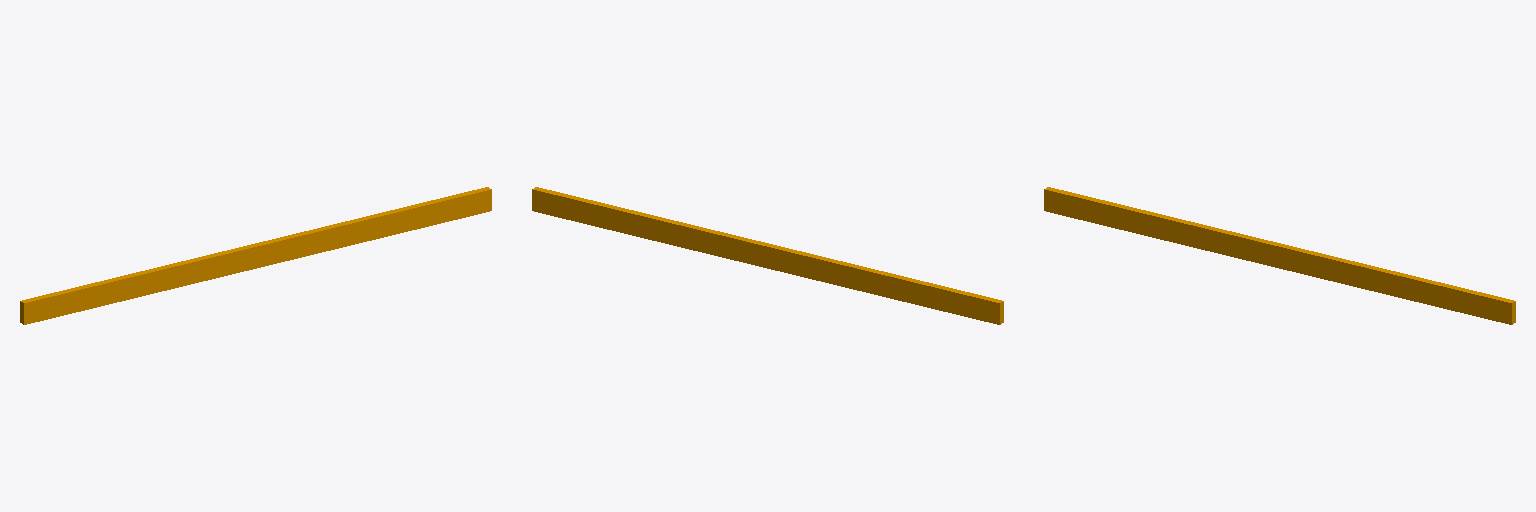
URDF robot description (simple_box):
<robot name="simple_box">
  <link name="my_box">
    <inertial>
      <origin xyz="0 0 0" />
      <mass value="1.0" />
      <inertia  ixx="1.0" ixy="0.0"  ixz="0.0"  iyy="100.0"  iyz="0.0"  izz="1.0" />
    </inertial>
    <visual>
      <origin xyz="0 0 0"/>
      <geometry>
        <box size="22.4 0.3 1.0" />
      </geometry>
    </visual>
    <collision>
      <origin xyz="0 0 0"/>
      <geometry>
        <box size="22.4 0.3 1.0" />
      </geometry>
    </collision>
  </link>
  <gazebo reference="my_box">
    <material>Gazebo/Grey</material>
  </gazebo>
</robot>

--- Facts derived from the render (not from the file) ---
The picture shows the robot from 3 angles, left to right: view 1: azimuth 30°, elevation 25°; view 2: azimuth 150°, elevation 25°; view 3: azimuth 330°, elevation 25°; orthographic projection.
Model simple_box with 1 links and 0 joints (none), rooted at my_box, posed every joint at zero.
Links seen in each view (by area): view 1: my_box; view 2: my_box; view 3: my_box.
Link boxes in pixels (x1,y1,x2,y2): my_box: (20,187,491,324); my_box: (532,187,1003,324); my_box: (1044,187,1515,324).
Size in the robot's own frame: 22.4 by 0.3 by 1 metres.
Geometry: primitives only (box / cylinder / sphere), no mesh files.
